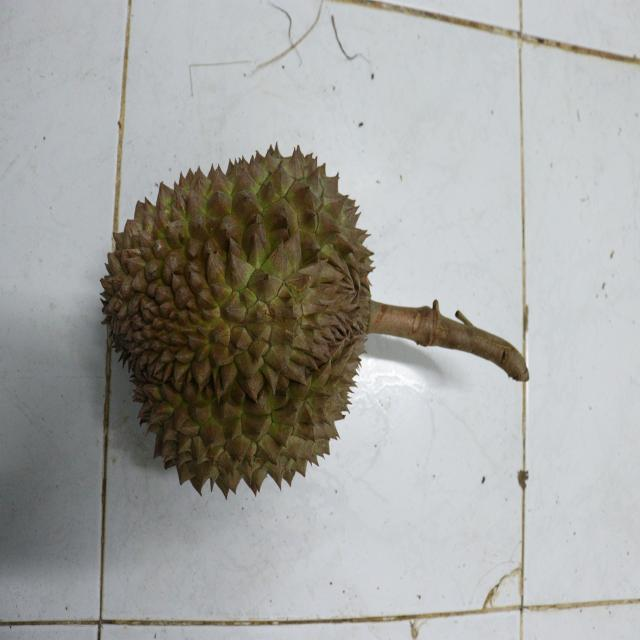mature: (100, 143, 376, 496)
